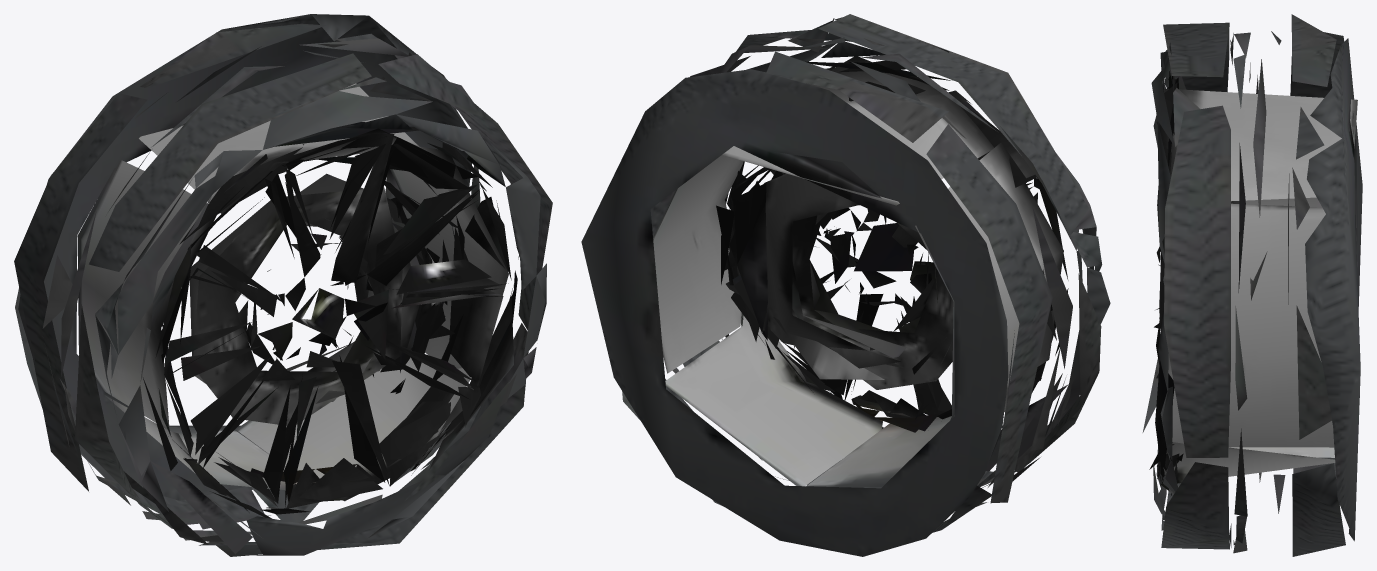
File: wheel.glb
3 renders of one model, left to right at view 1: azimuth 30°, elevation 25°; view 2: azimuth 150°, elevation 25°; view 3: azimuth 270°, elevation 25°, orthographic. The views are drawn at different scales.
Parts seen in each view (by area): view 1: wheel; view 2: wheel; view 3: wheel.
Part boxes in pixels (<box>): wheel: <box>14,14,552,556</box>; wheel: <box>581,14,1110,556</box>; wheel: <box>1142,14,1362,556</box>.
Size of the model in its own units: 1.16 by 1.21 by 0.4935.
Materials: 1 (1 with a texture image).
